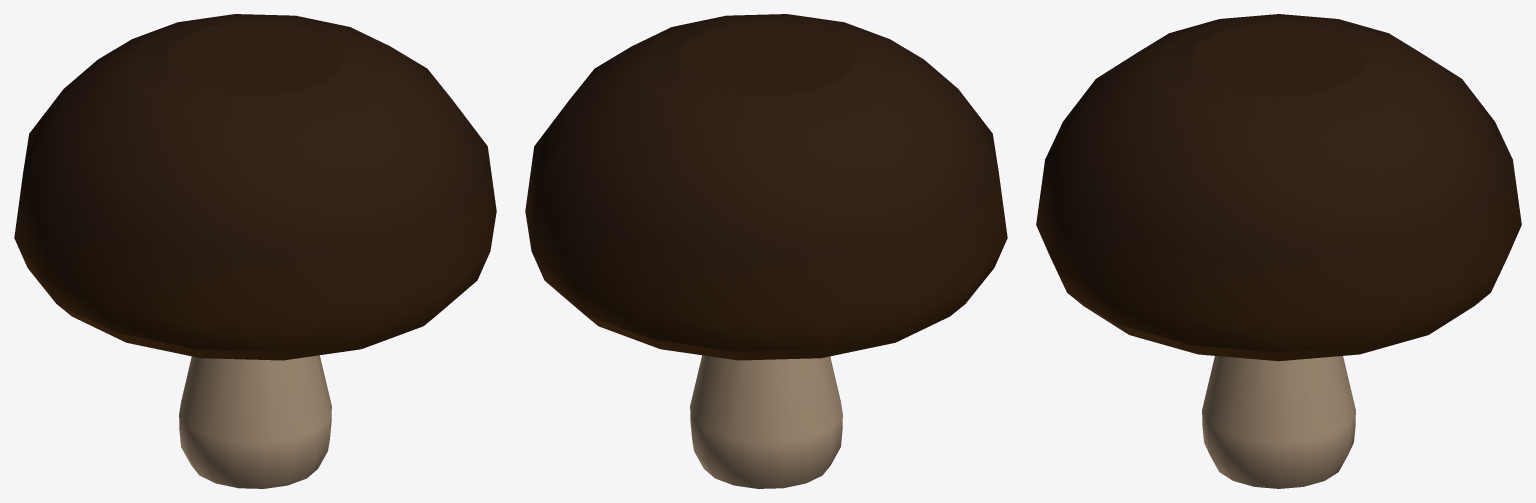
The model's file is shroomsmall.fbx.
The picture shows the model from 3 angles, left to right: view 1: azimuth 30°, elevation 25°; view 2: azimuth 150°, elevation 25°; view 3: azimuth 270°, elevation 25°; orthographic projection.
Visible parts, largest first — view 1: shroomsmall; view 2: shroomsmall; view 3: shroomsmall.
Boxes of the visible parts, left/top/right/bottom form: shroomsmall: left=14, top=14, right=496, bottom=488; shroomsmall: left=525, top=14, right=1007, bottom=488; shroomsmall: left=1036, top=14, right=1521, bottom=488.
Bounding box in the file's own units: 97.83 × 89.35 × 97.83.
